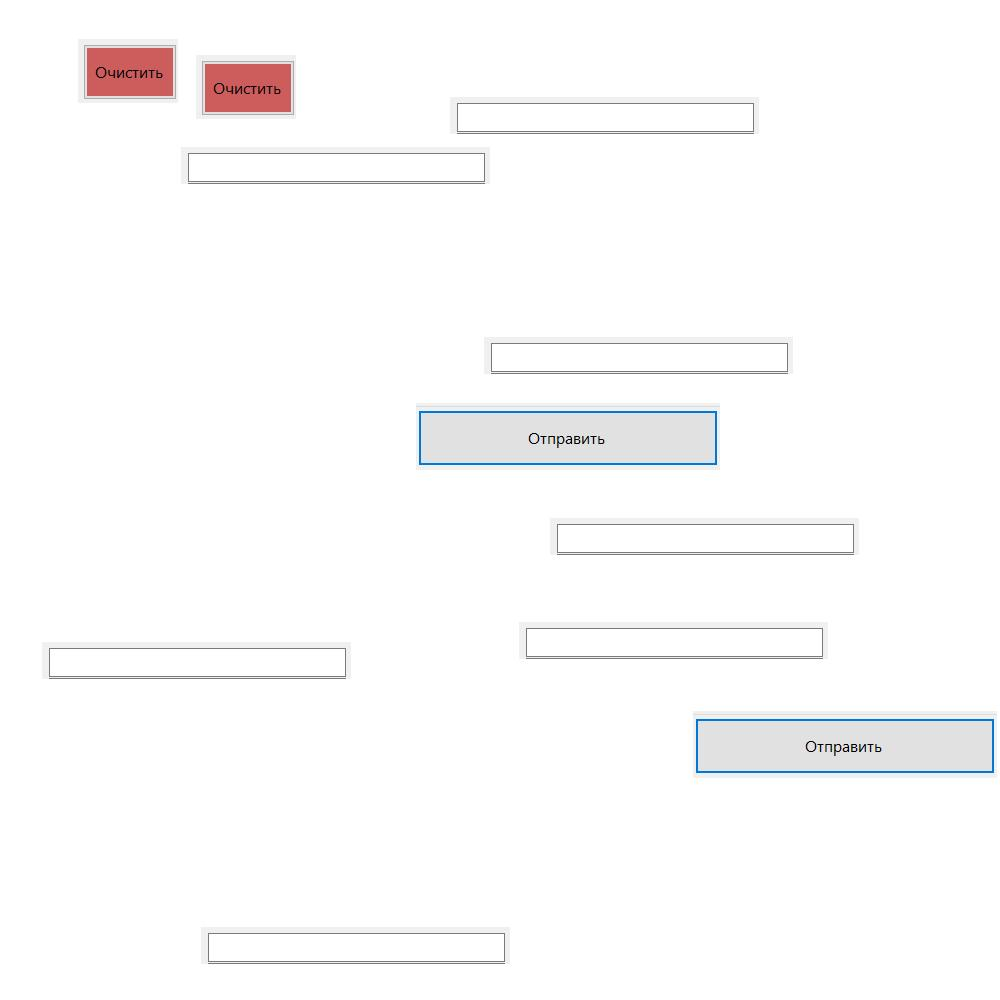Button: (416, 403, 720, 470), (693, 711, 997, 778), (196, 55, 296, 119), (78, 39, 178, 103)
EditText-: (201, 927, 510, 964), (519, 622, 828, 659), (42, 642, 351, 679), (484, 337, 793, 374), (550, 518, 859, 555), (181, 147, 490, 184), (450, 97, 759, 134)
